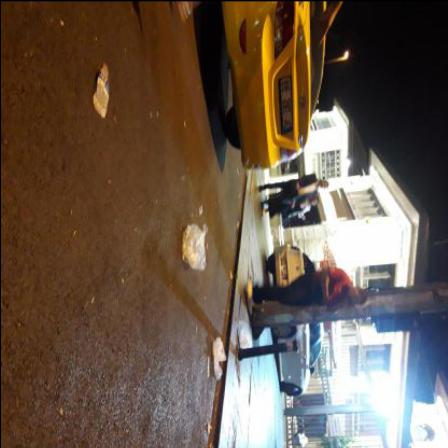Bottle: (93, 63, 110, 118)
Plastic bag - wrapper: (182, 223, 208, 271), (212, 336, 226, 379), (237, 320, 251, 348)
Unlabeled litter: (207, 423, 212, 433), (199, 207, 203, 216)
